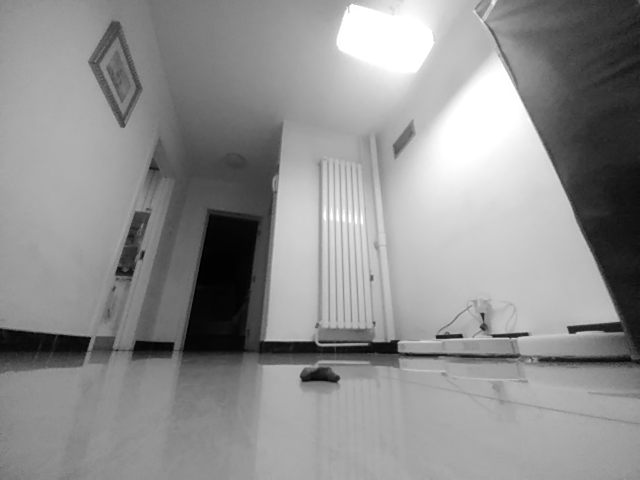pet feces: (299, 363, 341, 386)
